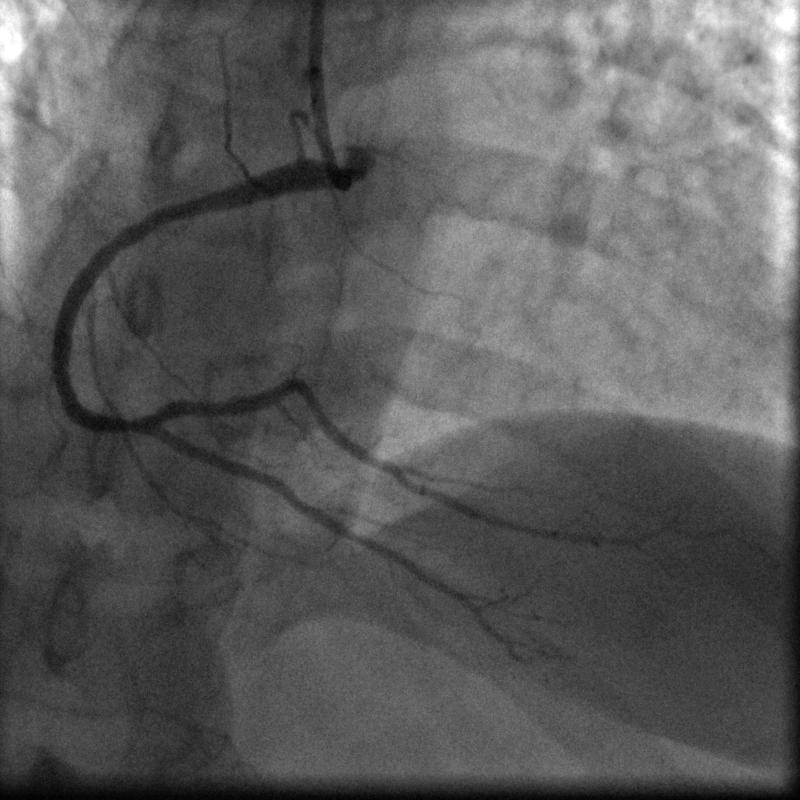Stenosis: (112, 413, 146, 434)
